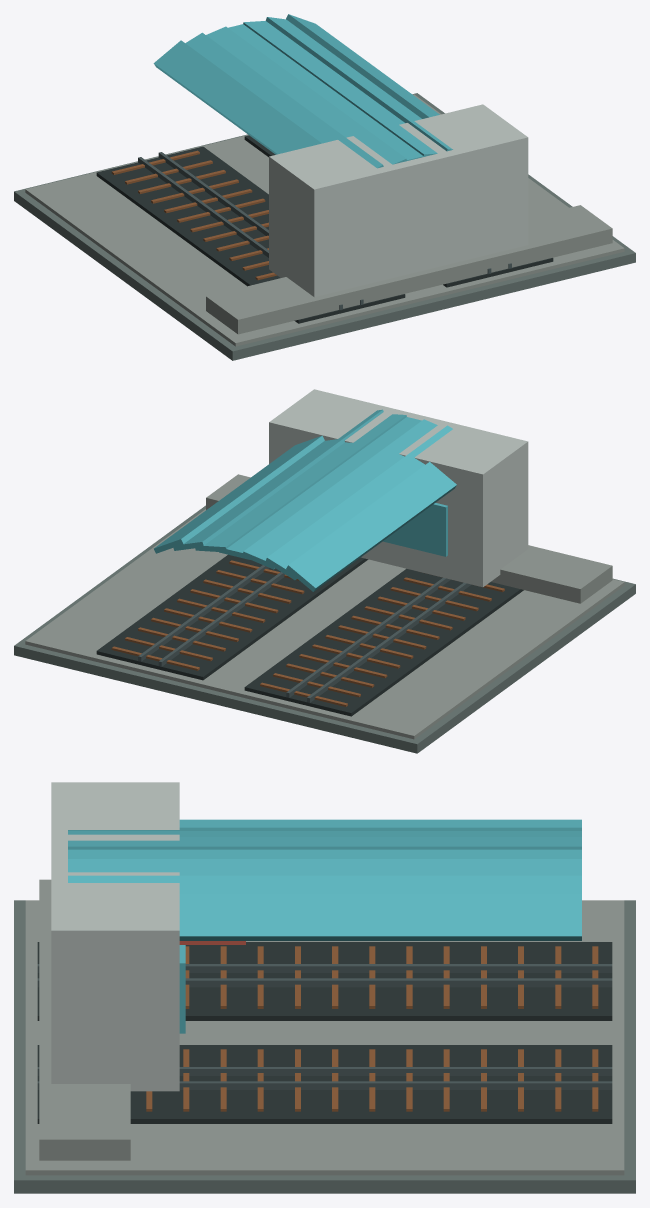
The model's file is train_station_lv1.glb.
The picture shows the model from 3 angles, top to bottom: view 1: azimuth 30°, elevation 25°; view 2: azimuth 150°, elevation 25°; view 3: azimuth 270°, elevation 25°; orthographic projection. The views are drawn at different scales.
Parts seen in each view (by area): view 1: rough, glossy, metallic; view 2: rough, glossy, metallic; view 3: rough, glossy, metallic.
Part boxes in pixels (bbox=[...]): rough: bbox=[14, 93, 635, 360]; glossy: bbox=[153, 14, 452, 168]; metallic: bbox=[138, 152, 511, 309]; rough: bbox=[14, 389, 635, 753]; glossy: bbox=[154, 409, 456, 591]; metallic: bbox=[138, 565, 471, 703]; rough: bbox=[14, 782, 635, 1193]; glossy: bbox=[68, 819, 581, 1033]; metallic: bbox=[37, 964, 612, 1089].
Bounding box in the file's own units: 9.8 × 3.28 × 9.2.
